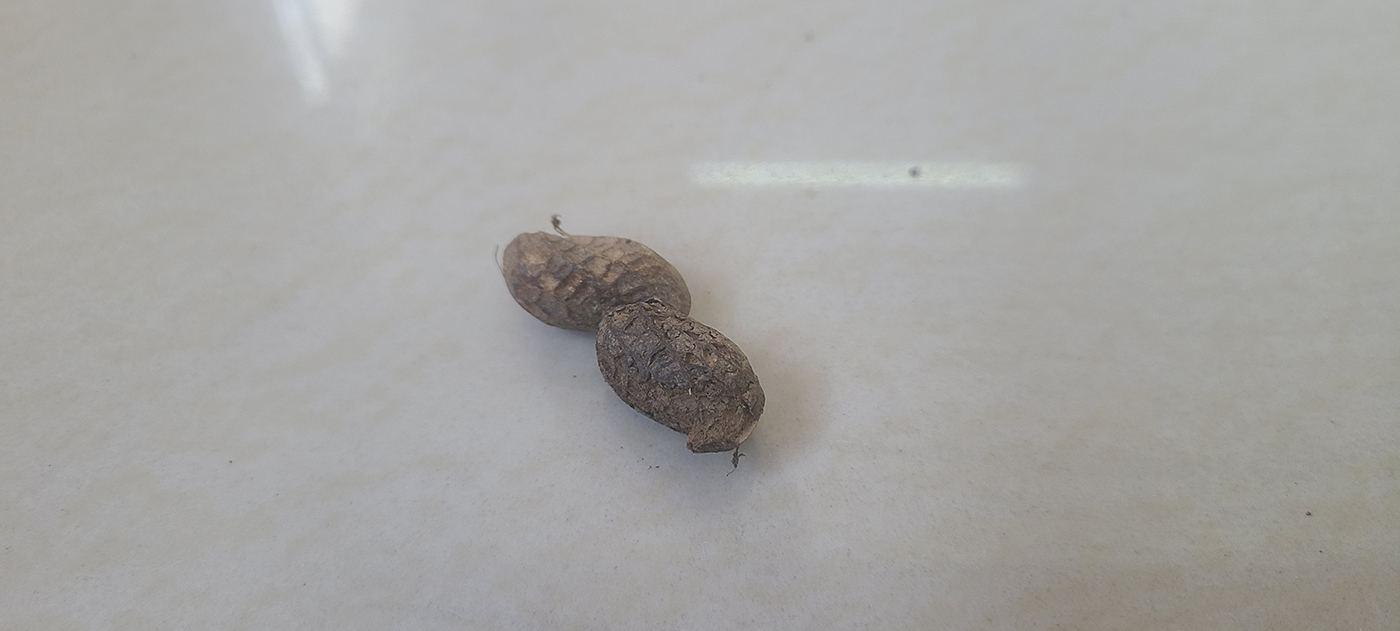l: (501, 232, 766, 457)
